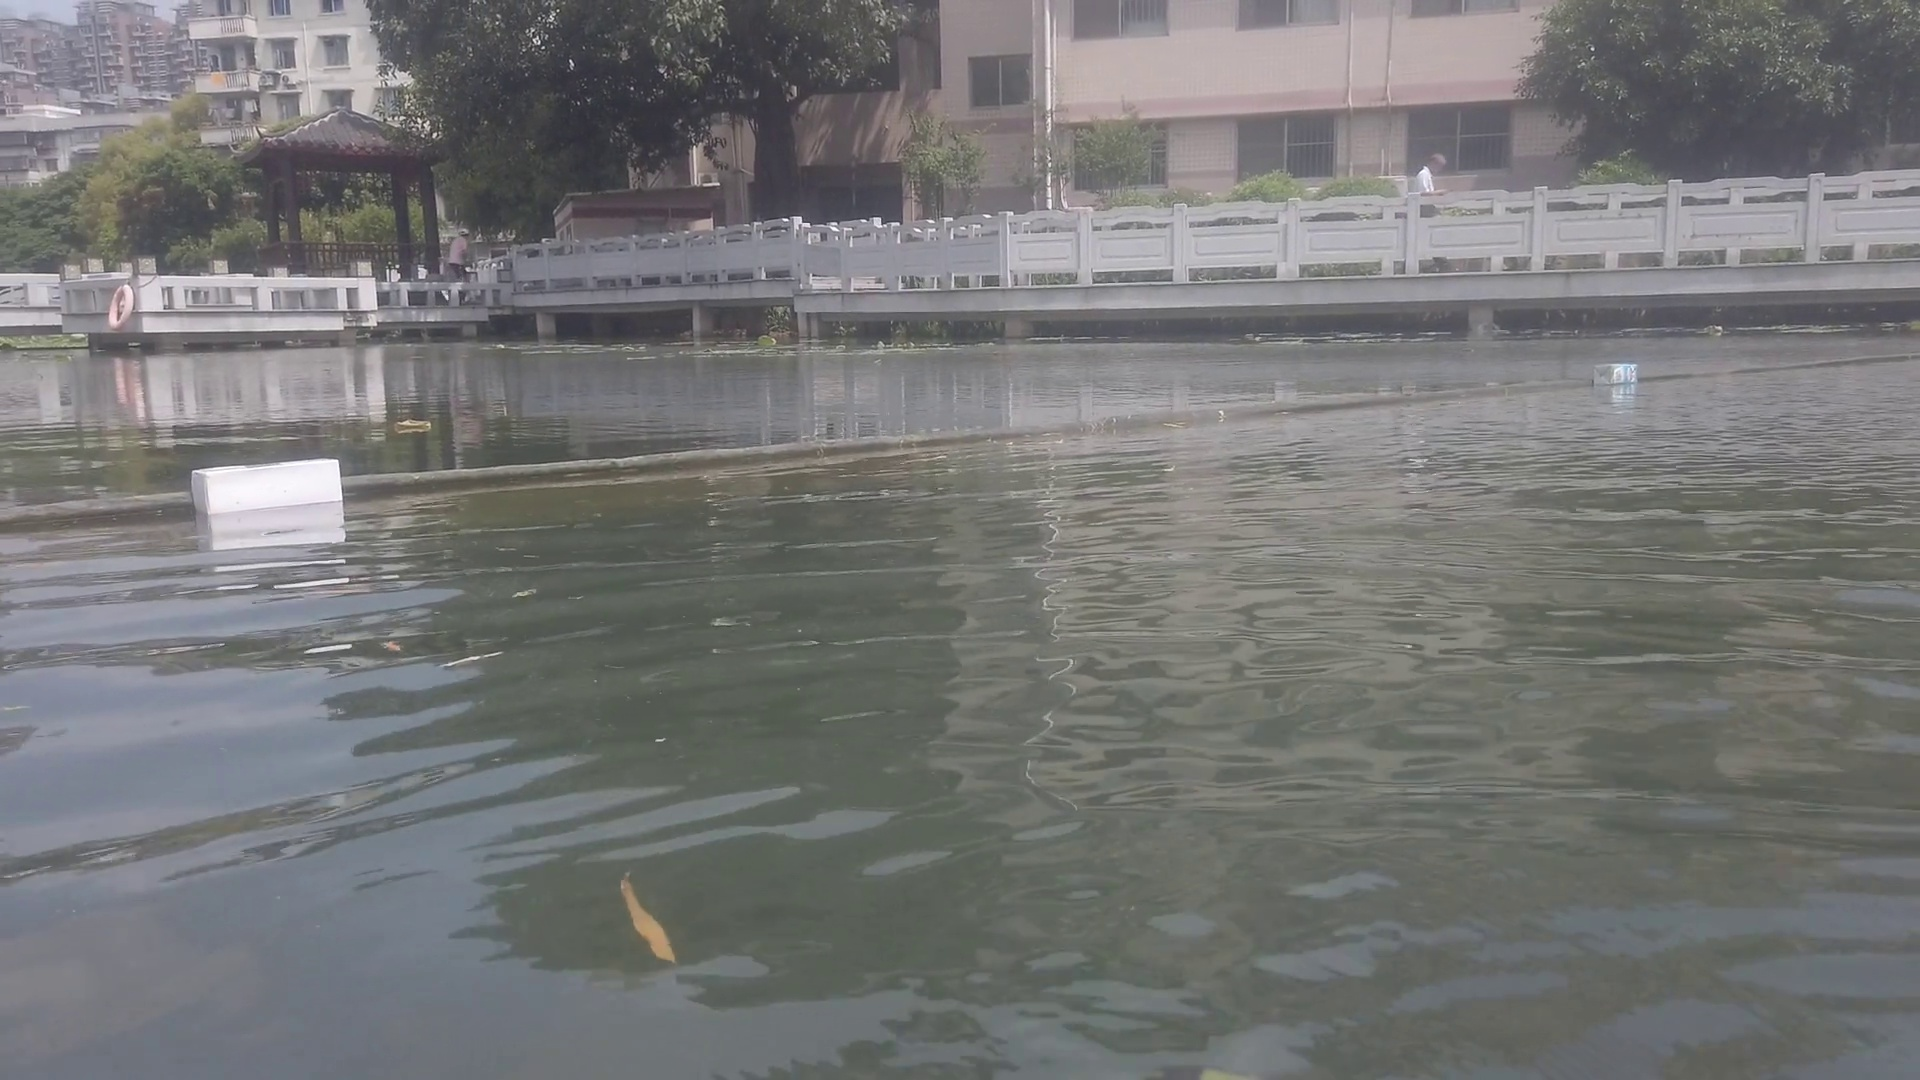carton: (187, 458, 342, 512), (1586, 357, 1640, 388)
